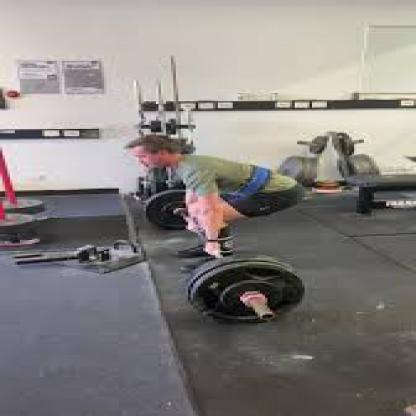Barbell: (168, 251, 318, 331)
